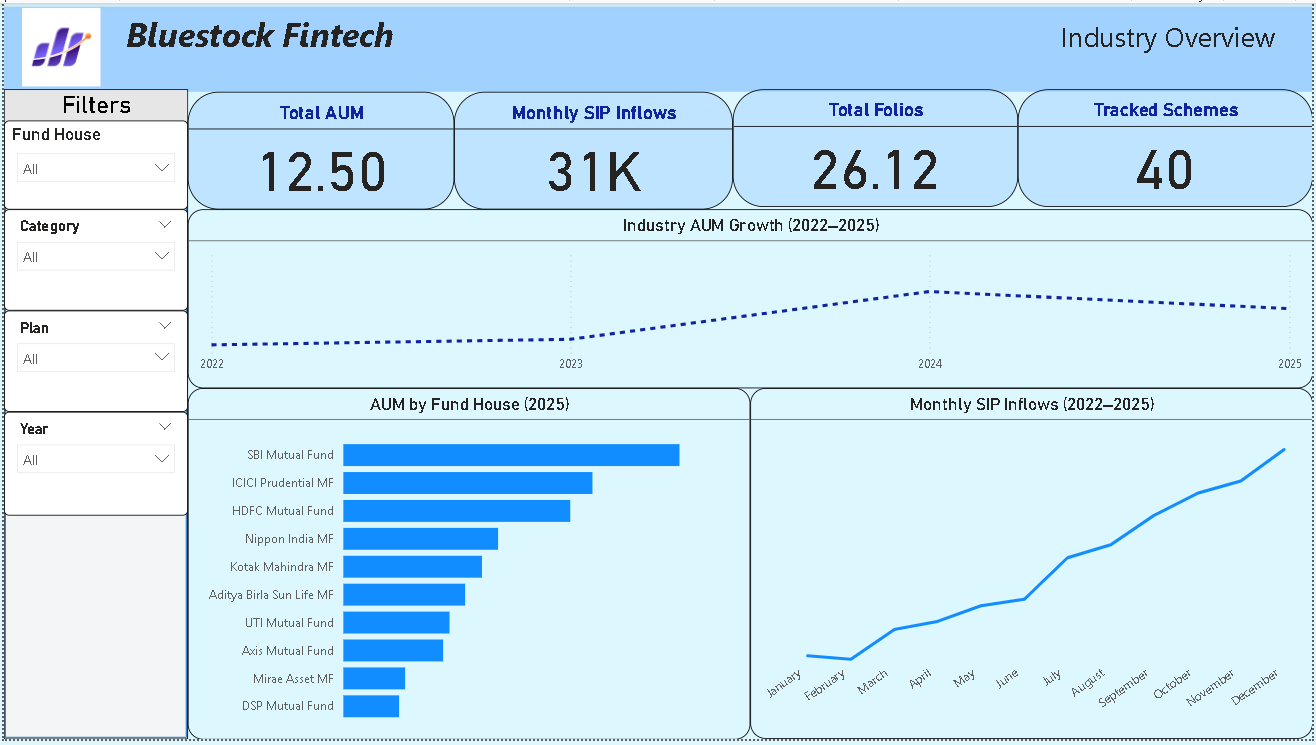

Layout of this report page (visuals, bound fields, positions):
{"tool":"powerbi","page":{"name":"Page 1","canvas":[1280,720],"ordinal":0},"visuals":[{"type":"textbox","box":[0,4,1280.3,83],"z":0},{"type":"image","box":[0,0,111.3,86.8],"z":1000},{"type":"shape","title":"Filters","box":[0,84.1,180,635.9],"z":2000},{"type":"card","title":"Total AUM","fields":{"Values":["Max(03_aum_by_fund_house.aum_lakh_crore)"]},"box":[179.8,86.8,260.5,114.9],"z":3000},{"type":"card","title":"Monthly SIP Inflows","fields":{"Values":["Max(04_monthly_sip_inflows.sip_inflow_crore)"]},"box":[440.2,86.8,272.7,114.9],"z":4000},{"type":"card","title":"Total Folios","fields":{"Values":["Max(06_industry_folio_count.total_folios_crore)"]},"box":[712.9,84.4,278.8,114.9],"z":5000},{"type":"card","title":"Tracked Schemes","fields":{"Values":["Count(01_fund_master.amfi_code)"]},"box":[991.7,84.4,288.6,114.9],"z":6000},{"type":"lineChart","title":"Industry AUM Growth (2022–2025)","fields":{"Category":["03_aum_by_fund_house.date.Variation.Date Hierarchy.Year"],"Y":["Sum(03_aum_by_fund_house.aum_lakh_crore)"]},"box":[179.8,201.8,1100.5,174.9],"z":7000},{"type":"clusteredBarChart","title":"AUM by Fund House (2025)","fields":{"Category":["03_aum_by_fund_house.fund_house"],"Y":["Sum(03_aum_by_fund_house.aum_lakh_crore)"]},"box":[179.8,376.6,550.3,343.6],"z":8000},{"type":"lineChart","title":"Monthly SIP Inflows (2022–2025)","fields":{"Y":["Sum(04_monthly_sip_inflows.sip_inflow_crore)"],"Category":["04_monthly_sip_inflows.month.Variation.Date Hierarchy.Year","04_monthly_sip_inflows.month.Variation.Date Hierarchy.Quarter","04_monthly_sip_inflows.month.Variation.Date Hierarchy.Month","04_monthly_sip_inflows.month.Variation.Date Hierarchy.Day"]},"box":[730,377,550,343],"z":9000},{"type":"slicer","title":"Fund House","fields":{"Values":["01_fund_master.fund_house"]},"box":[0,114.9,179.8,86.8],"z":10000},{"type":"slicer","fields":{"Values":["01_fund_master.category"]},"box":[0,201.8,179.8,99],"z":11000},{"type":"slicer","fields":{"Values":["01_fund_master.plan"]},"box":[0,300.8,179.8,99],"z":12000},{"type":"slicer","fields":{"Values":["03_aum_by_fund_house.date.Variation.Date Hierarchy.Year"]},"box":[0,399.9,179.8,101.5],"z":13000}]}

Visuals, with their boxes in screenshot pixels (x1, y1, x2, y2), scaled from the page's 1280x720 canvas onto the 1316x745 screenshot:
textbox: region(0, 4, 1315, 90)
image: region(0, 0, 114, 90)
"Filters" shape: region(0, 87, 185, 744)
"Total AUM" card: region(185, 90, 453, 209)
"Monthly SIP Inflows" card: region(453, 90, 733, 209)
"Total Folios" card: region(733, 87, 1020, 206)
"Tracked Schemes" card: region(1020, 87, 1315, 206)
"Industry AUM Growth (2022–2025)" lineChart: region(185, 209, 1315, 390)
"AUM by Fund House (2025)" clusteredBarChart: region(185, 390, 751, 744)
"Monthly SIP Inflows (2022–2025)" lineChart: region(751, 390, 1315, 744)
"Fund House" slicer: region(0, 119, 185, 209)
slicer - 01_fund_master.category: region(0, 209, 185, 311)
slicer - 01_fund_master.plan: region(0, 311, 185, 414)
slicer - 03_aum_by_fund_house.date.Variation.Date Hierarchy.Year: region(0, 414, 185, 519)
